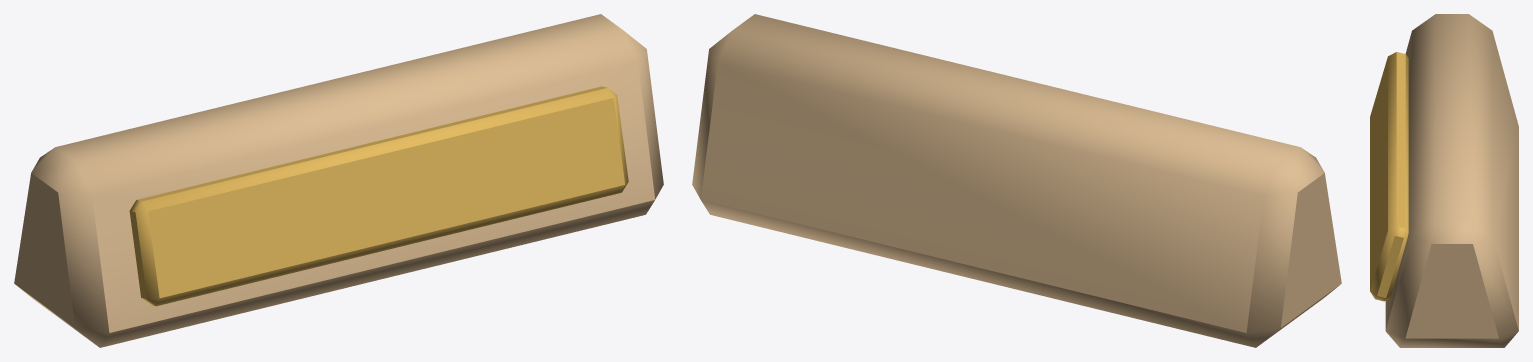
File: nameplate.glb
3 views of the same model, side by side, from view 1: azimuth 30°, elevation 25°; view 2: azimuth 150°, elevation 25°; view 3: azimuth 270°, elevation 25° (orthographic). The views are drawn at different scales.
Parts seen in each view (by area): view 1: wood, gold; view 2: wood; view 3: wood, gold.
Boxes of the visible parts, bbox=[...] form: wood: bbox=[14, 14, 663, 347]; gold: bbox=[129, 86, 628, 306]; wood: bbox=[692, 14, 1341, 347]; wood: bbox=[1385, 14, 1518, 347]; gold: bbox=[1370, 52, 1408, 301].
Size of the model in its own units: 0.22 by 0.06 by 0.0626.
